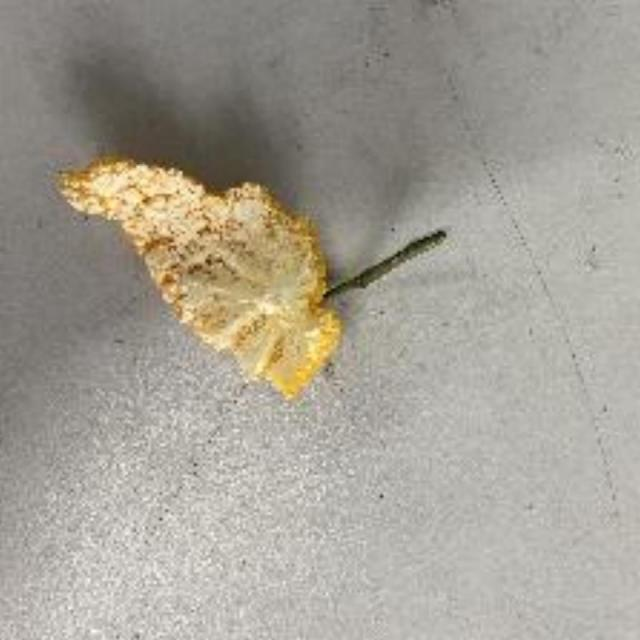orange-peel: (53, 151, 345, 401)
